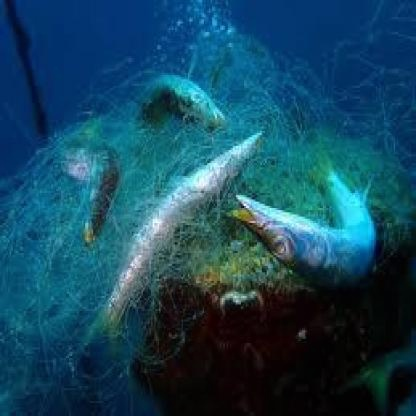net: (6, 54, 389, 345)
